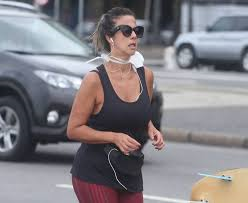mask_weared_incorrect: (95, 3, 151, 75)
